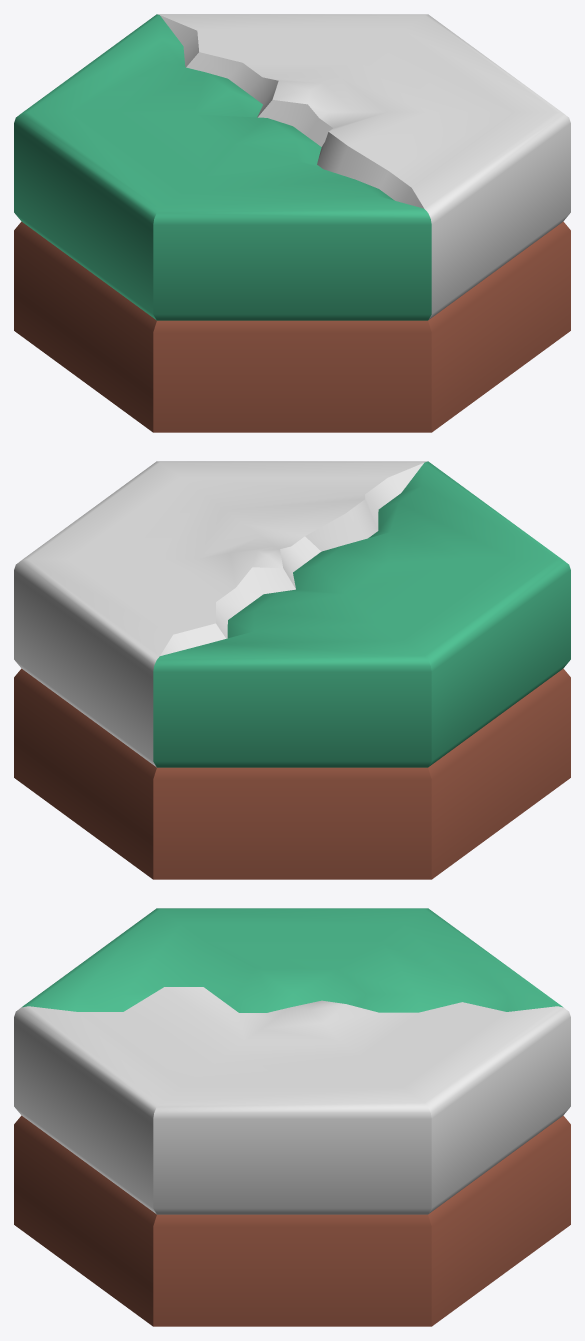
Rendered from hex_forest_transitionB.glb.
3 renders of one model, top to bottom at view 1: azimuth 30°, elevation 25°; view 2: azimuth 150°, elevation 25°; view 3: azimuth 270°, elevation 25°, orthographic.
Parts seen in each view (by area): view 1: hex_forest_transitionB; view 2: hex_forest_transitionB; view 3: hex_forest_transitionB.
Part boxes in pixels (<box>): hex_forest_transitionB: <box>14,14,570,432</box>; hex_forest_transitionB: <box>14,461,570,879</box>; hex_forest_transitionB: <box>14,908,570,1326</box>.
Size of the model in its own units: 2 by 1.07 by 2.31.
